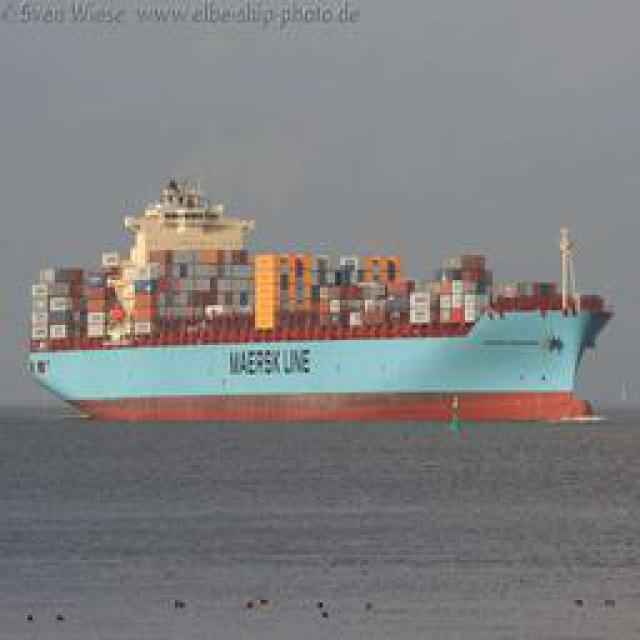Ship: (23, 180, 618, 405)
